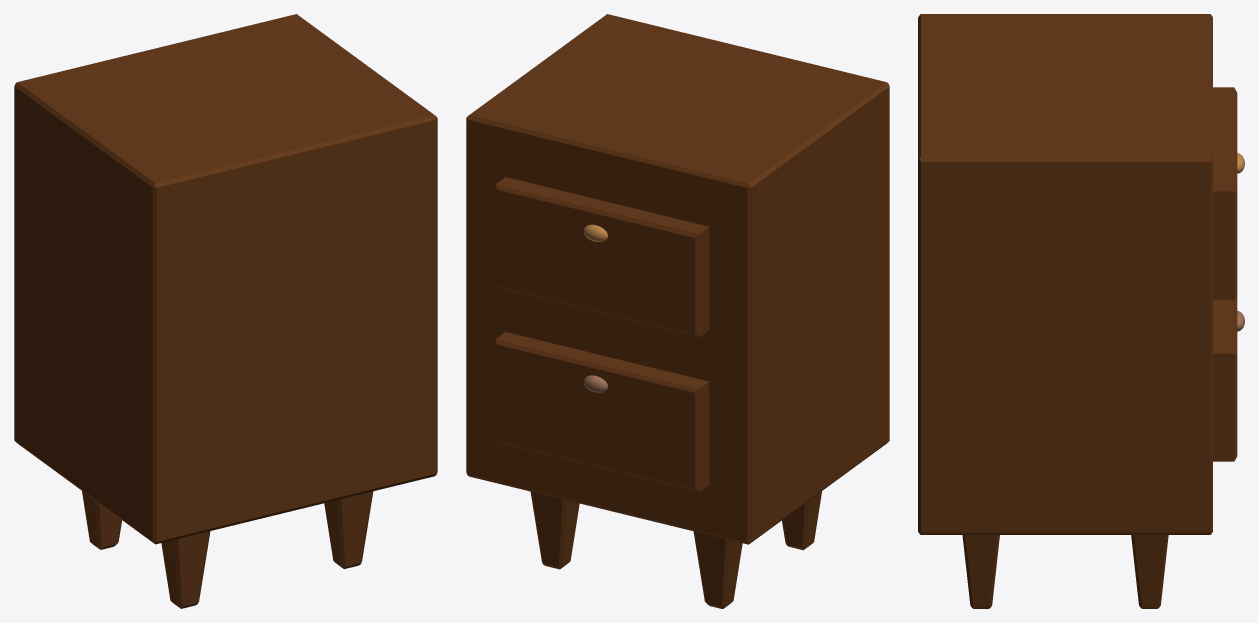
The model's file is M_Commode.fbx.
The picture shows the model from 3 angles, left to right: view 1: azimuth 30°, elevation 25°; view 2: azimuth 150°, elevation 25°; view 3: azimuth 270°, elevation 25°; orthographic projection. The views are drawn at different scales.
Visible parts, largest first — view 1: Cube; view 2: Cube; view 3: Cube.
Boxes of the visible parts, <box> form: Cube: <box>14,14,437,608</box>; Cube: <box>466,14,889,608</box>; Cube: <box>918,14,1244,608</box>.
Size of the model in its own units: 234 by 358 by 222.
